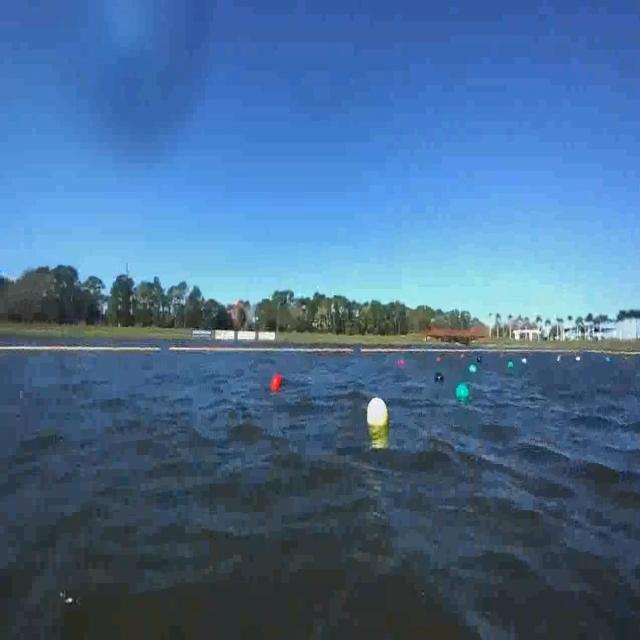black-buoy: (436, 371, 444, 382), (438, 374, 446, 384)
green-buoy: (456, 382, 470, 401)
red-buoy: (272, 372, 284, 392)
yellow-buoy: (368, 399, 389, 430)
